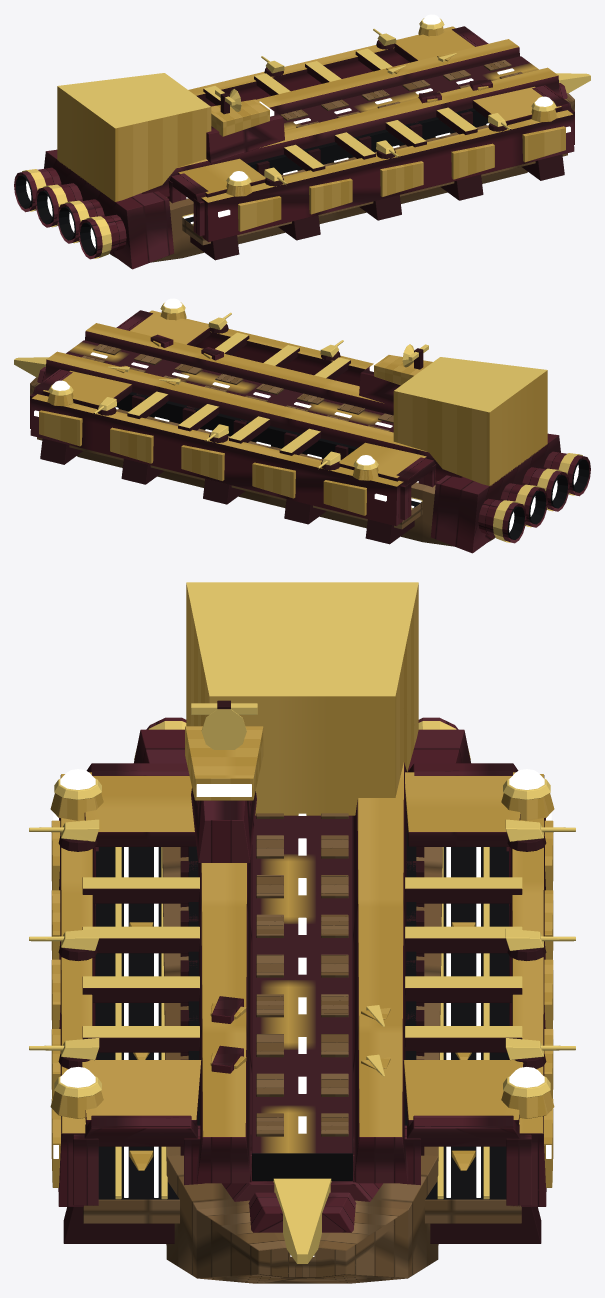
File: carrier.glb
The picture shows the model from 3 angles, top to bottom: view 1: azimuth 30°, elevation 25°; view 2: azimuth 150°, elevation 25°; view 3: azimuth 270°, elevation 25°; orthographic projection. The views are drawn at different scales.
Parts seen in each view (by area): view 1: banking_clan_carrier; view 2: banking_clan_carrier; view 3: banking_clan_carrier.
Part boxes in pixels (box(x1,y1,x2,y2)): banking_clan_carrier: box(14, 14, 590, 269); banking_clan_carrier: box(14, 298, 590, 553); banking_clan_carrier: box(29, 582, 575, 1283).
Bounding box in the file's own units: 57.75 × 14.79 × 25.62.
Materials: 1 (1 with a texture image).
